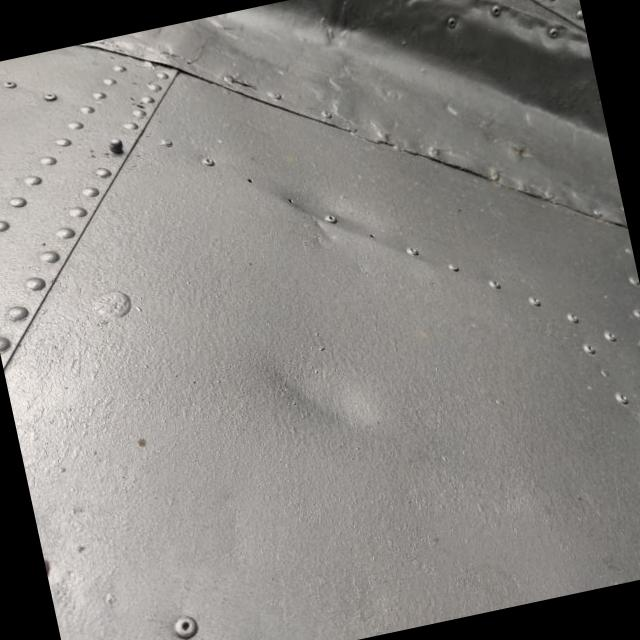Dent: (214, 290, 437, 479)
